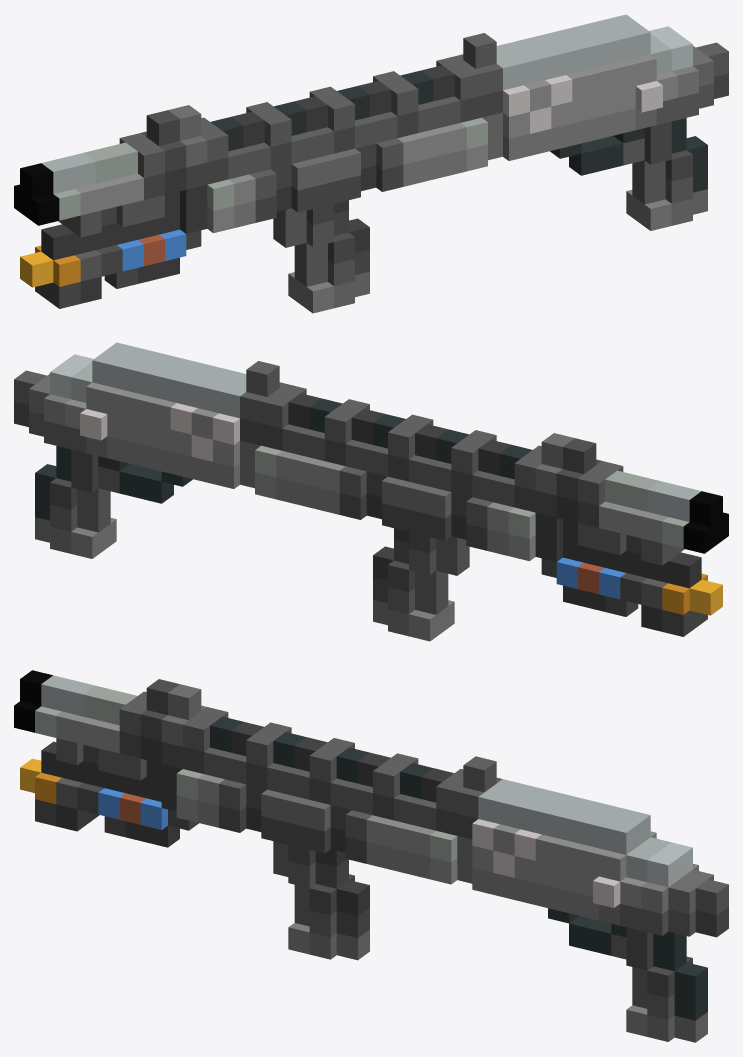
Rendered from Shotgun_RE4_Chacaka.obj.
The picture shows the model from 3 angles, top to bottom: view 1: azimuth 30°, elevation 25°; view 2: azimuth 150°, elevation 25°; view 3: azimuth 330°, elevation 25°; orthographic projection.
Size of the model in its own units: 33 by 10 by 4.
